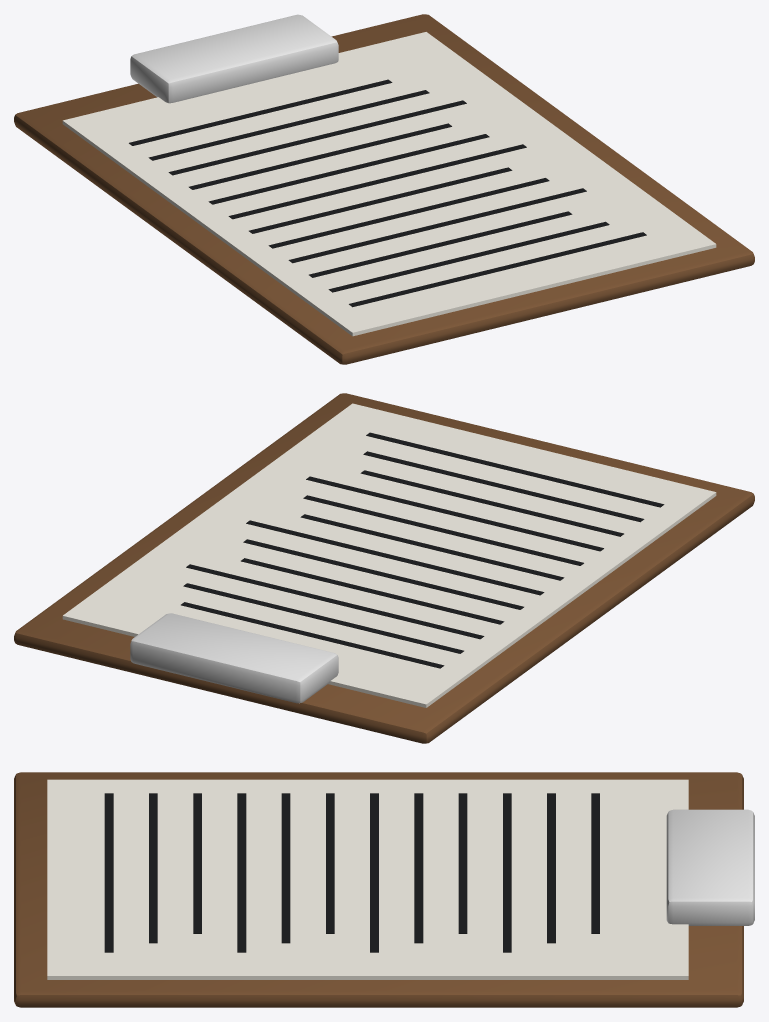
Rendered from tideline_count_sheet.glb.
3 renders of one model, top to bottom at view 1: azimuth 30°, elevation 25°; view 2: azimuth 150°, elevation 25°; view 3: azimuth 270°, elevation 25°, orthographic. The views are drawn at different scales.
Parts seen in each view (by area): view 1: tideline_count_sheet; view 2: tideline_count_sheet; view 3: tideline_count_sheet.
Part boxes in pixels (box(x1,y1,x2,y2)): tideline_count_sheet: box(14, 14, 754, 364); tideline_count_sheet: box(14, 393, 754, 743); tideline_count_sheet: box(14, 772, 754, 1007).
Bounding box in the file's own units: 0.24 × 0.022 × 0.335.
